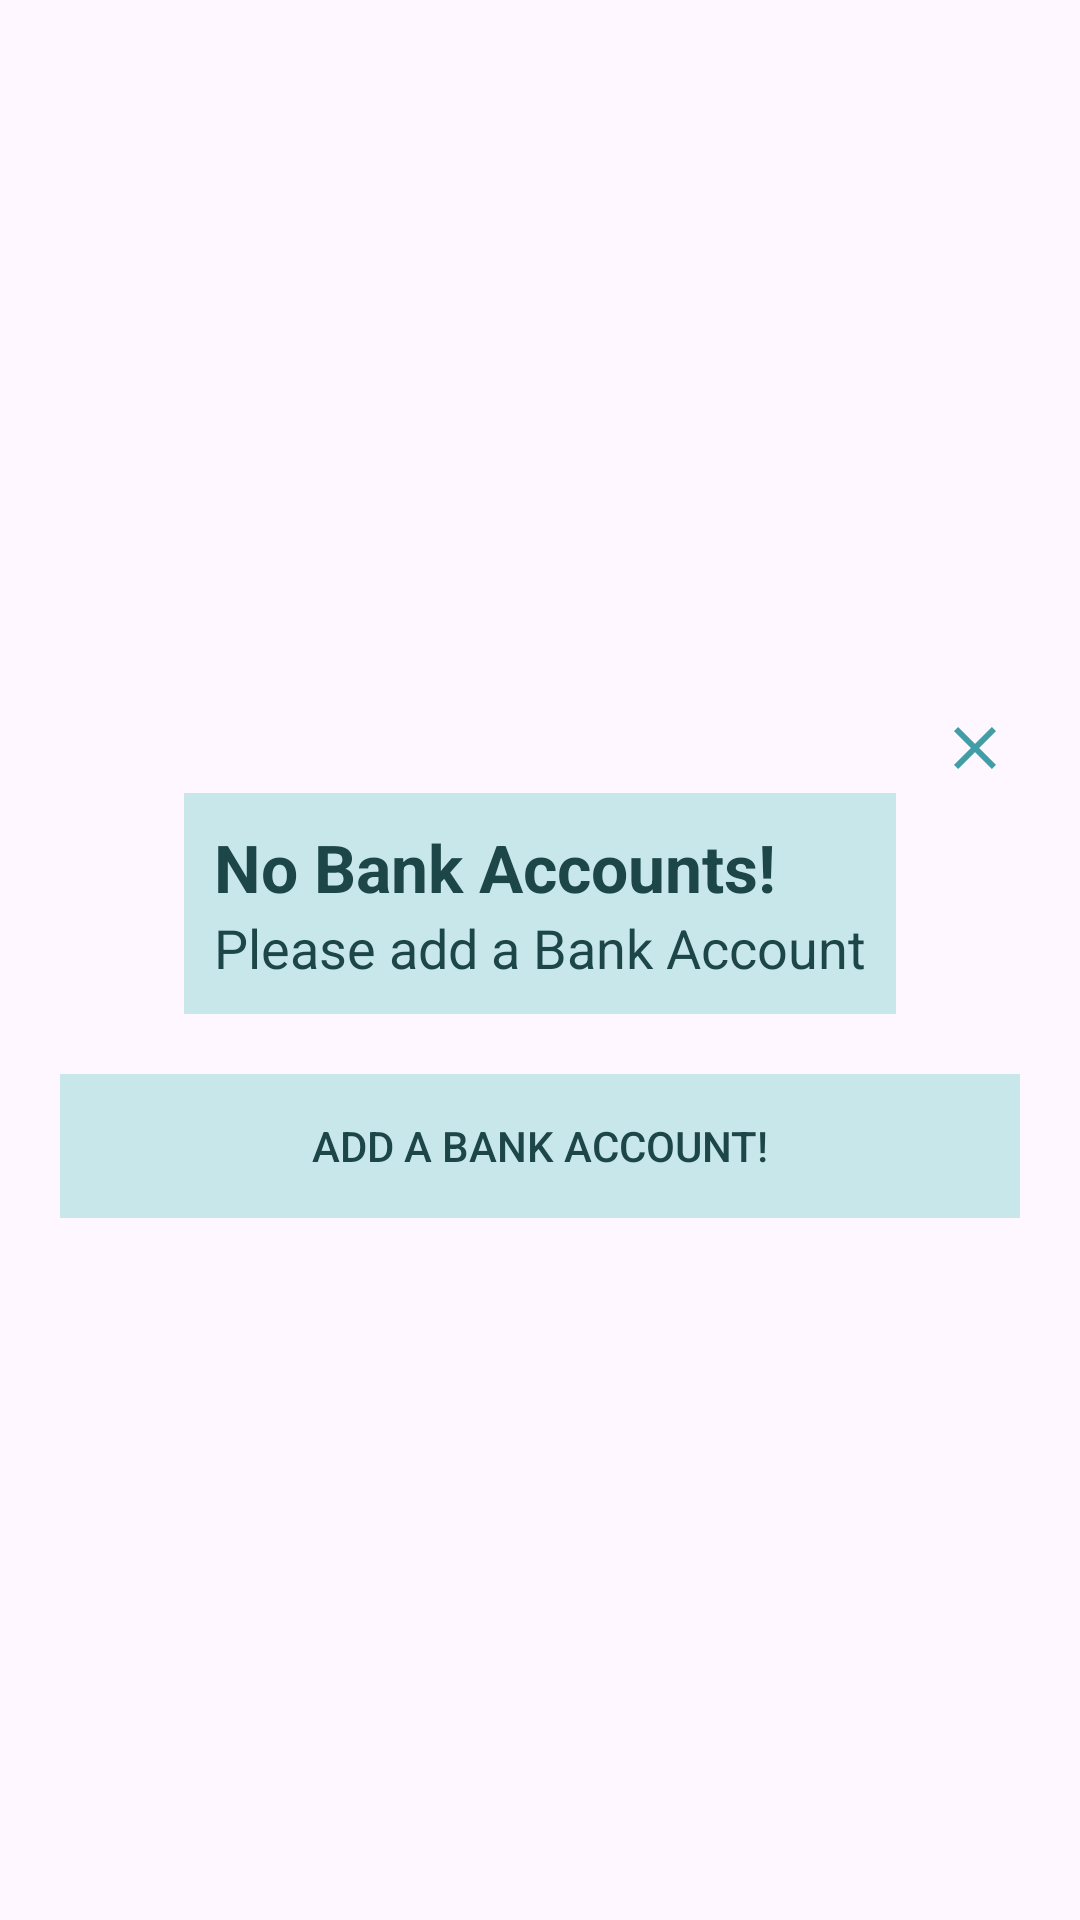

Named icons in this screenshot (1080px x 1920px) and their bounding boxes, (x1, y1, x2, y2):
close: (954, 727, 996, 769)
